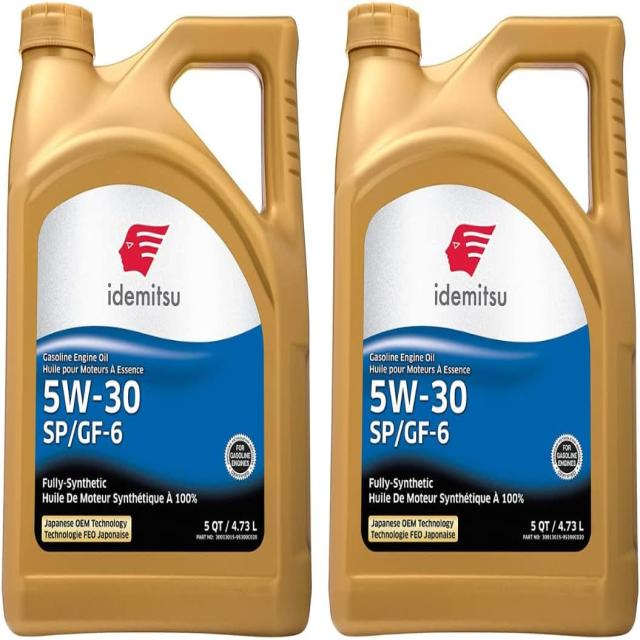motor_oil: (332, 1, 640, 640), (0, 4, 309, 640)
